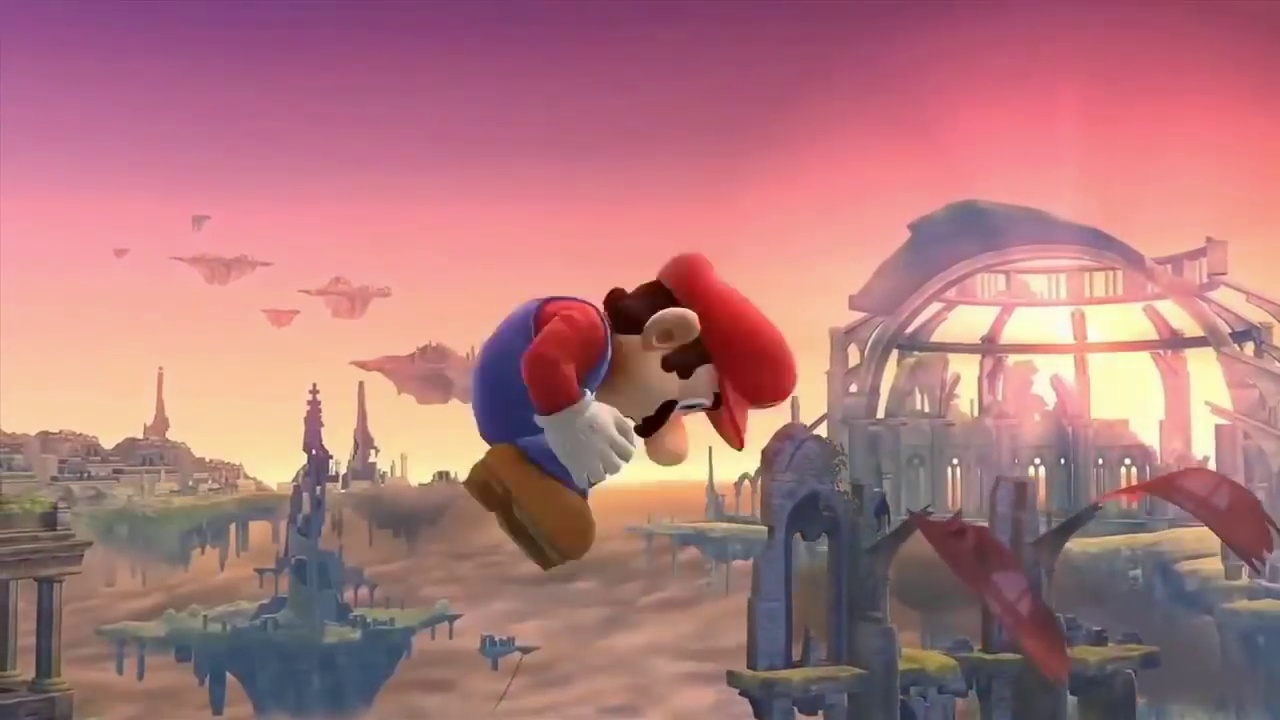Mario: (464, 252, 798, 574)
